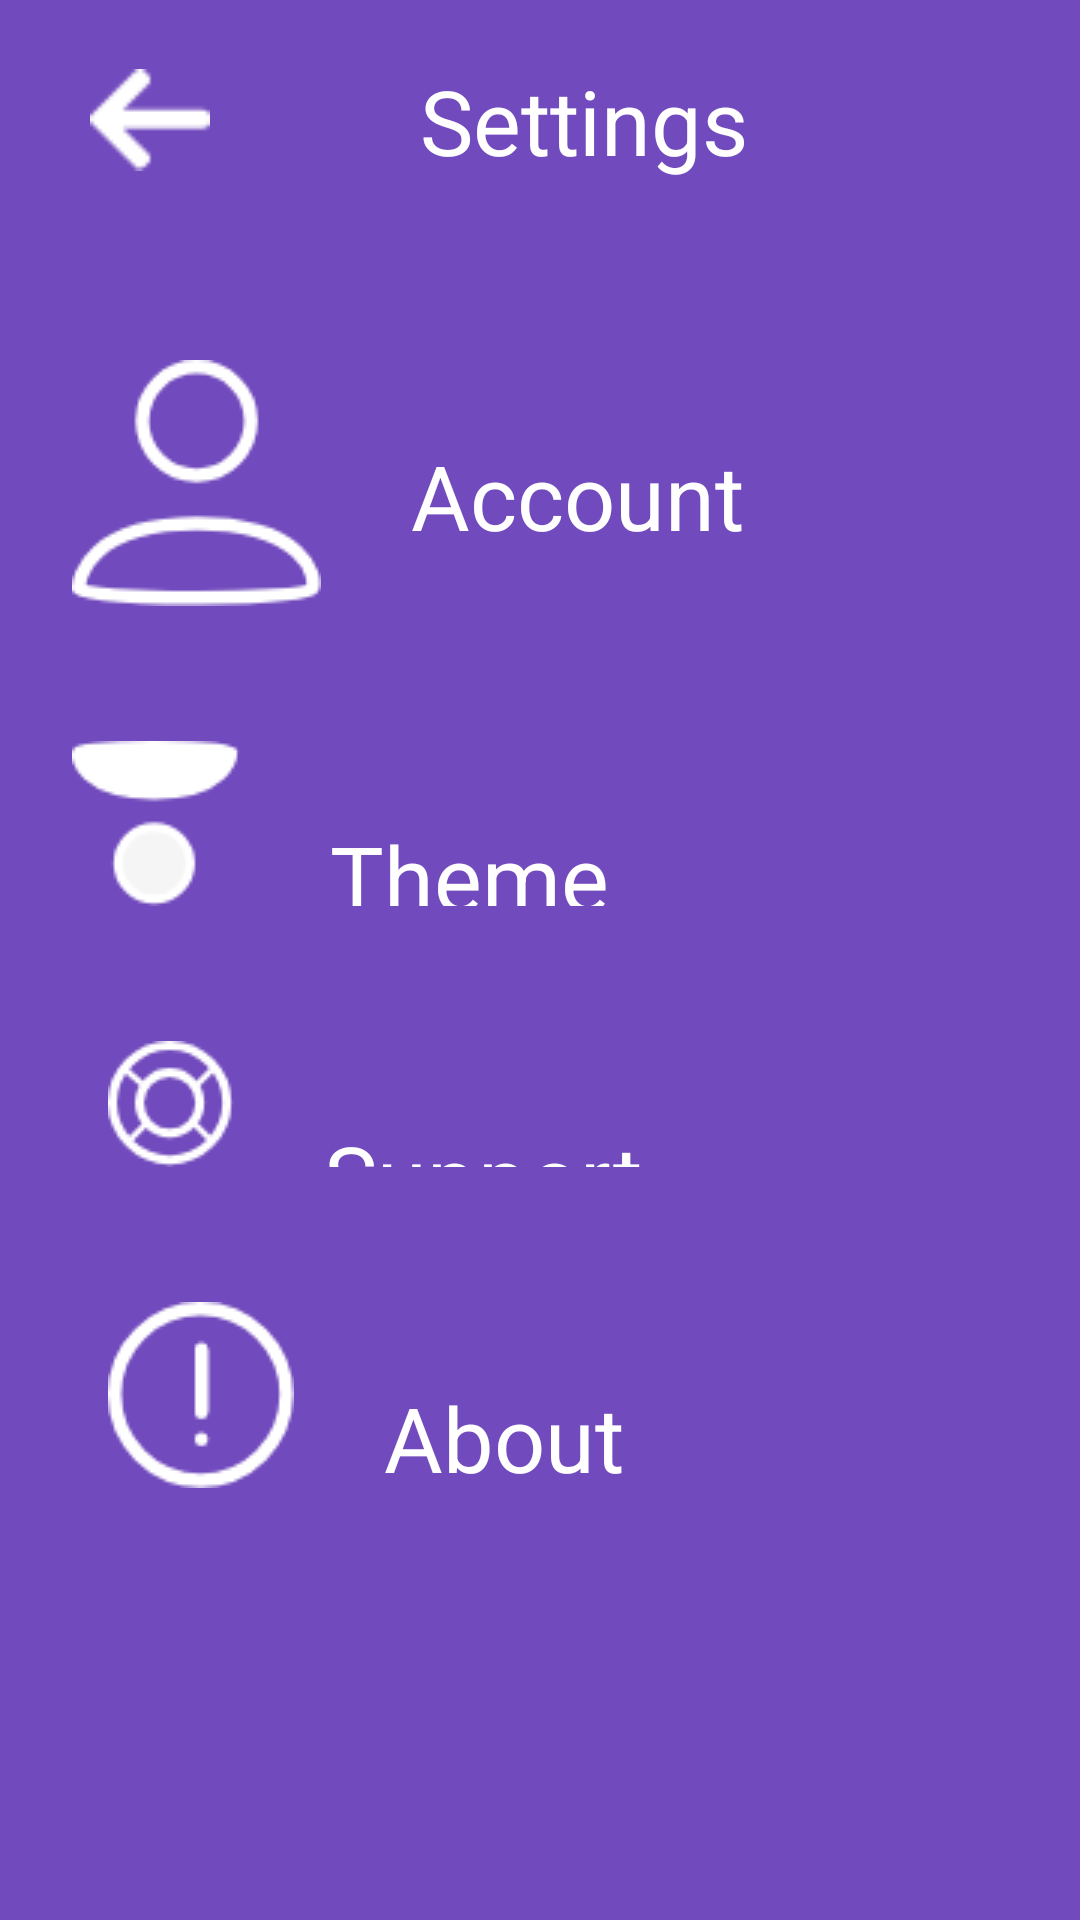

Screen size 1080 × 1920. Icon name, then its box in pixels as (x1, y1, x2, y2):
back: (90, 69, 210, 171)
setting info: (108, 1302, 294, 1488)
